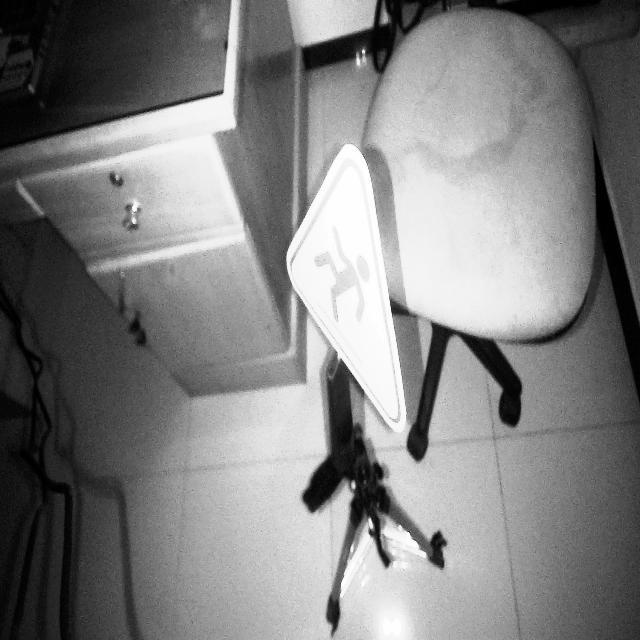Sign: (285, 142, 408, 436)
